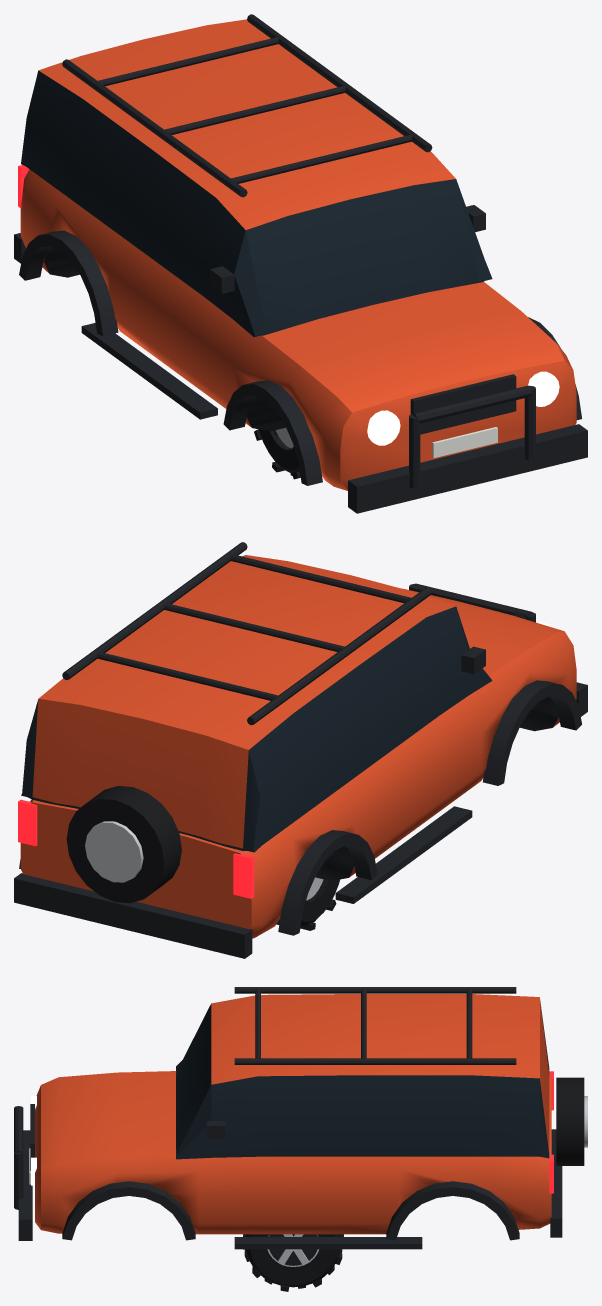
Rendered from suv.glb.
3 renders of one model, top to bottom at view 1: azimuth 30°, elevation 25°; view 2: azimuth 150°, elevation 25°; view 3: azimuth 270°, elevation 25°, orthographic. The views are drawn at different scales.
Parts seen in each view (by area): view 1: body, wheel; view 2: body, wheel; view 3: body, wheel.
Boxes of the visible parts, x1,y1,x2,y2 form: body: [14, 14, 587, 513]; wheel: [254, 427, 300, 479]; body: [14, 542, 587, 958]; wheel: [276, 877, 340, 930]; body: [14, 987, 587, 1249]; wheel: [243, 1234, 343, 1291].
Bounding box in the file's own units: 2.14 × 2.46 × 4.89.
